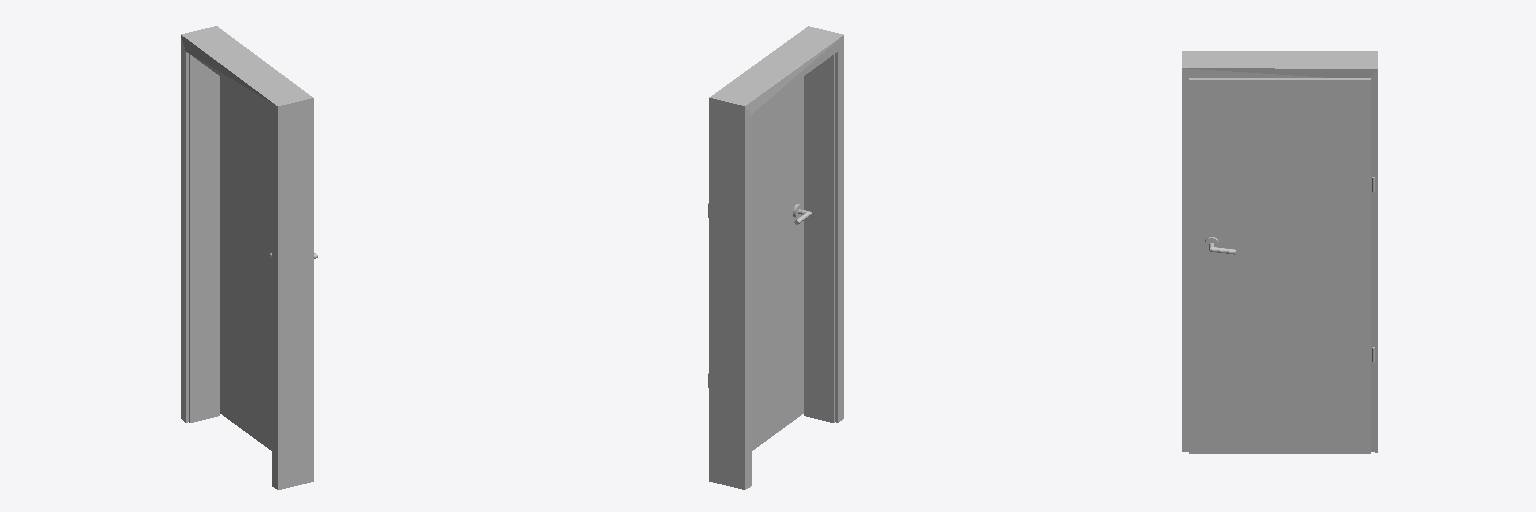
Rendered from door99.obj.
The picture shows the model from 3 angles: view 1: azimuth 30°, elevation 25°; view 2: azimuth 150°, elevation 25°; view 3: azimuth 270°, elevation 25°; orthographic projection.
Visible parts, largest first — view 1: Cylinder.005, Cylinder.001; view 2: Cylinder.005, Cylinder.001; view 3: Cylinder.001, Cylinder.005.
Part boxes in pixels (bbox=[...]): Cylinder.005: bbox=[181, 26, 313, 489]; Cylinder.001: bbox=[220, 77, 271, 450]; Cylinder.005: bbox=[708, 26, 843, 489]; Cylinder.001: bbox=[708, 77, 803, 450]; Cylinder.001: bbox=[1189, 78, 1374, 453]; Cylinder.005: bbox=[1182, 51, 1377, 452].
Size of the model in its own units: 0.3039 by 2.05 by 0.95.